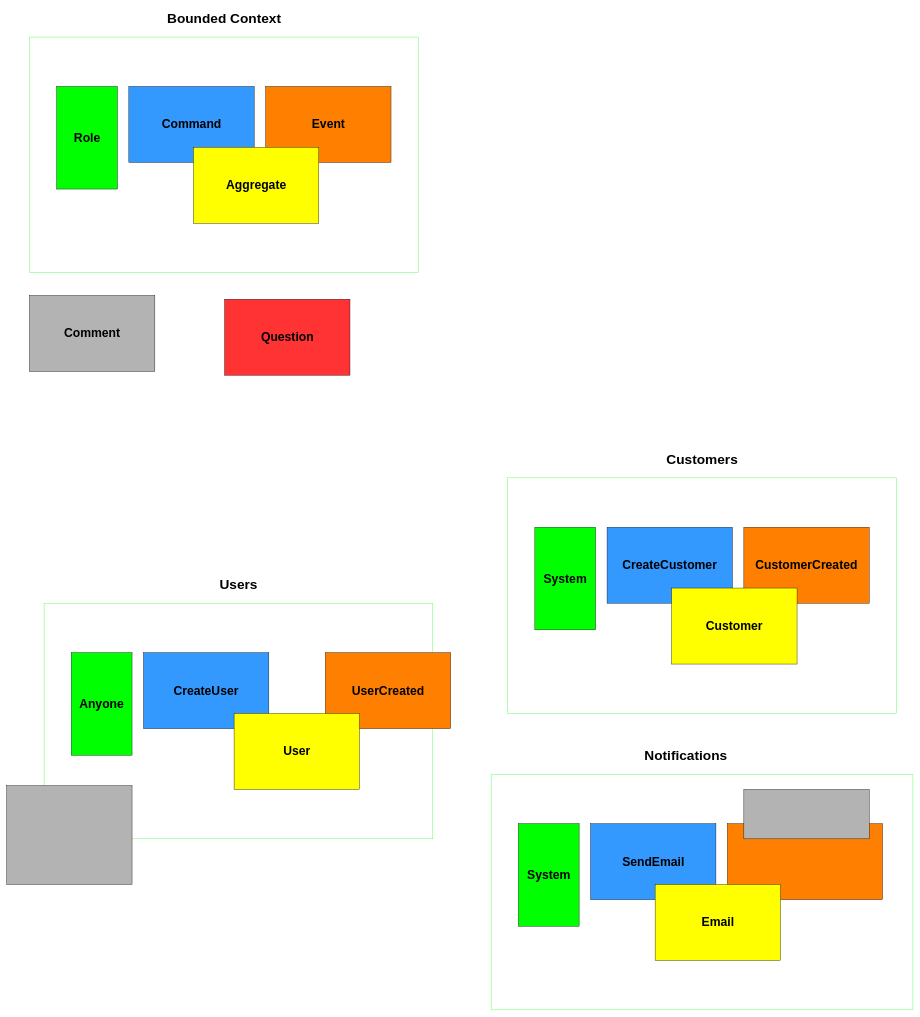
Some shapes in this 920 by 1017 pixel diagram are drawn without their labels. Each missing label, with the centre of its shape:
"Confirmation Email" goes at pixel 806 814.
"EmailSent" goes at pixel 805 861.
"Input Data: Email Password" goes at pixel 69 834.
